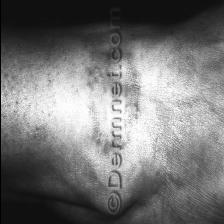Unclassified: (84, 40, 132, 150)
